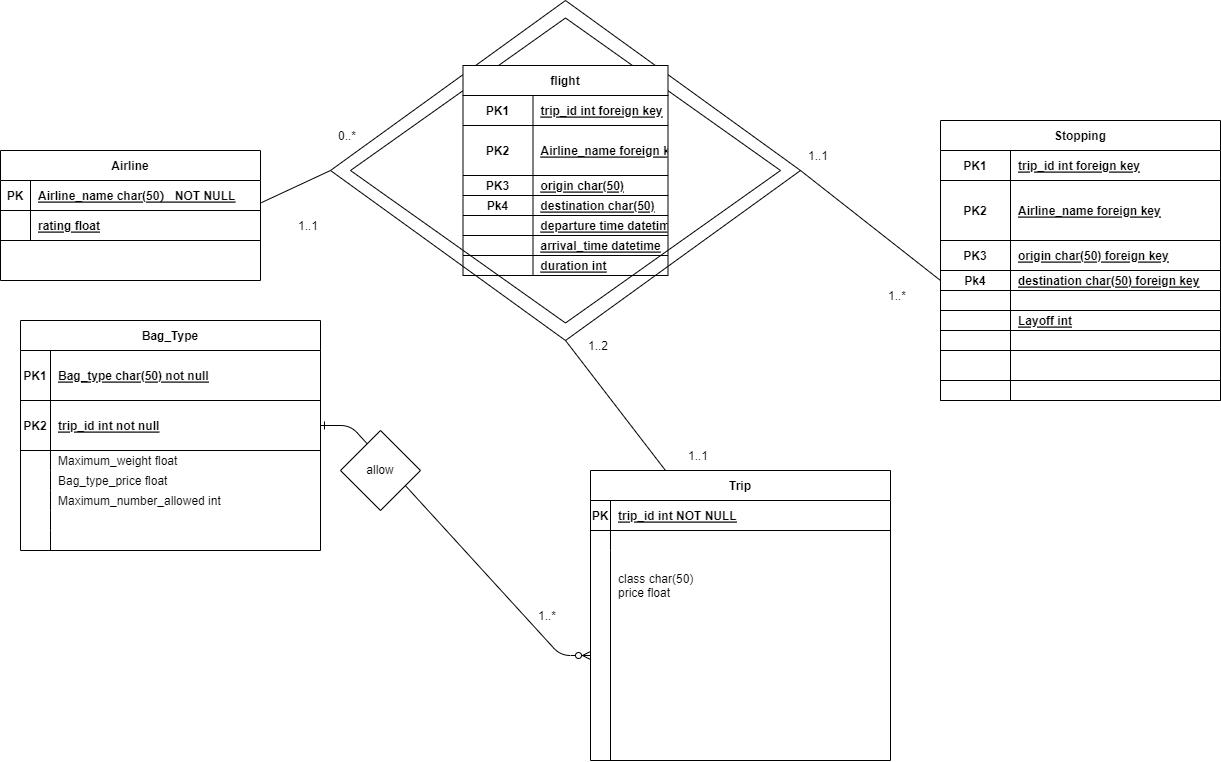entity: (589, 467, 893, 762), (938, 117, 1221, 402), (18, 321, 322, 553), (460, 62, 672, 280), (1, 150, 262, 284)
relationship: (343, 429, 422, 510)
weakrelationship: (327, 1, 799, 340)
